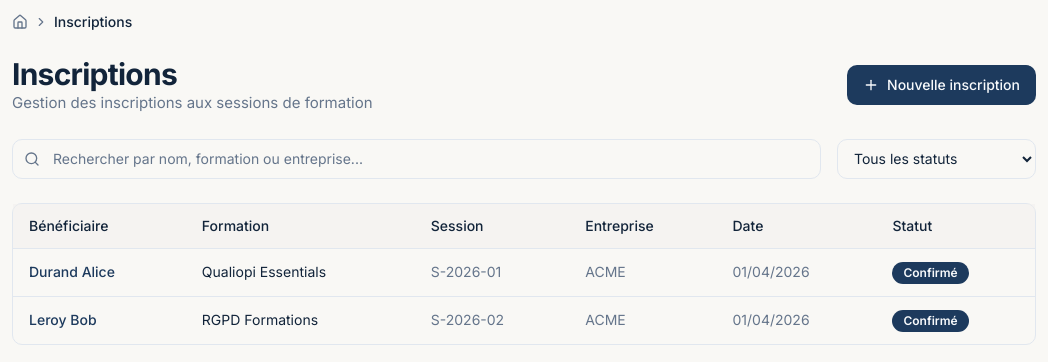
EnrollmentsListPage › filters enrollments by formation title
Step 1. Type "rgpd" into the field with placeholder "Rechercher par nom, formation ou entreprise..." → {"x": 416, "y": 158}, box 12,138 -> 821,178
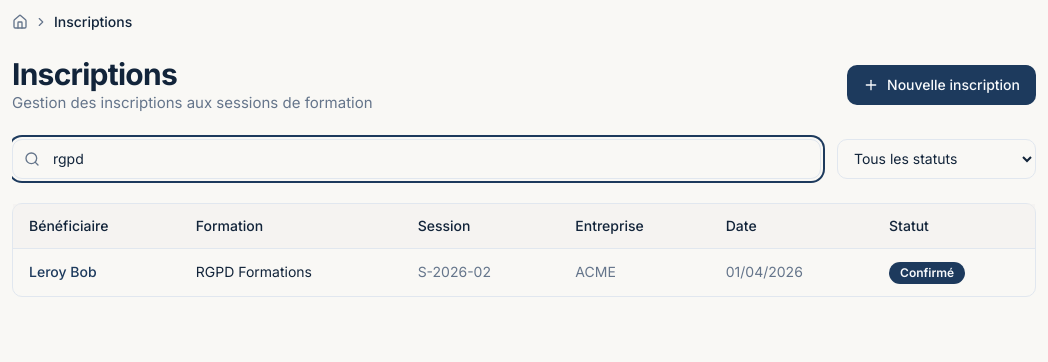
Expected: the link "Leroy Bob" is shown, 29,263 -> 97,280
Result: the link "Durand" is gone
